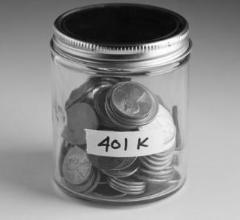glass: (51, 3, 193, 205)
